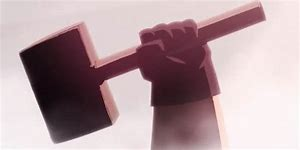hammer: (16, 1, 268, 146)
